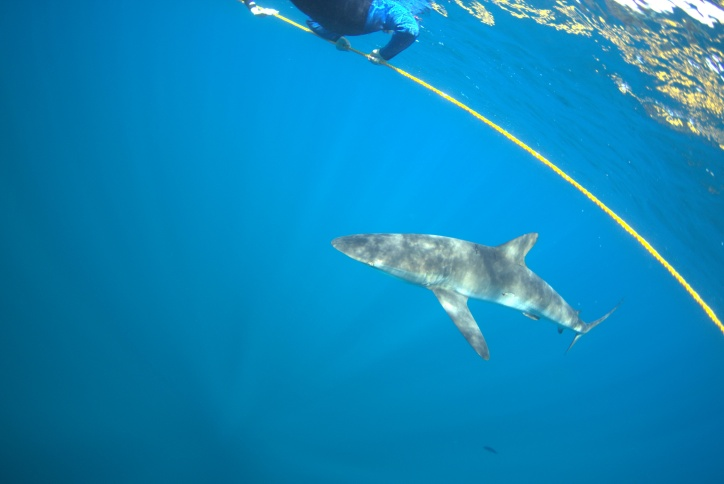Sedoso: (316, 206, 645, 374)
